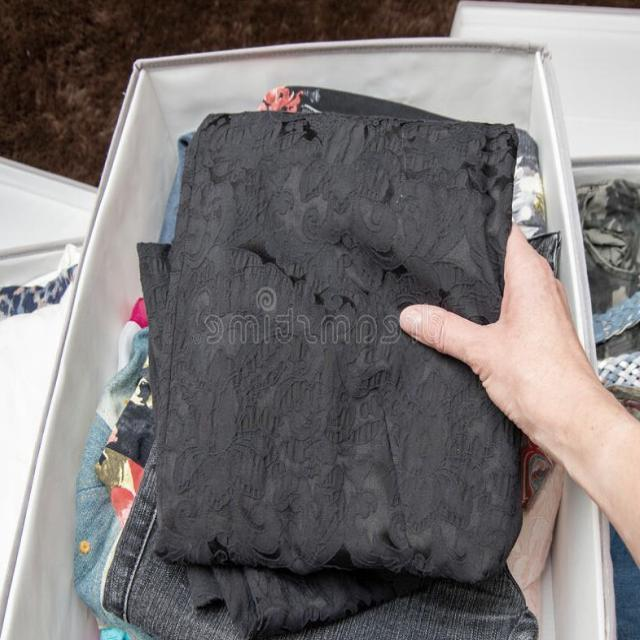clothes: (160, 102, 521, 576)
